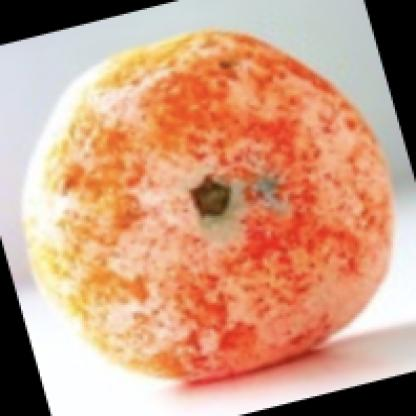rotten: (27, 30, 390, 384)
